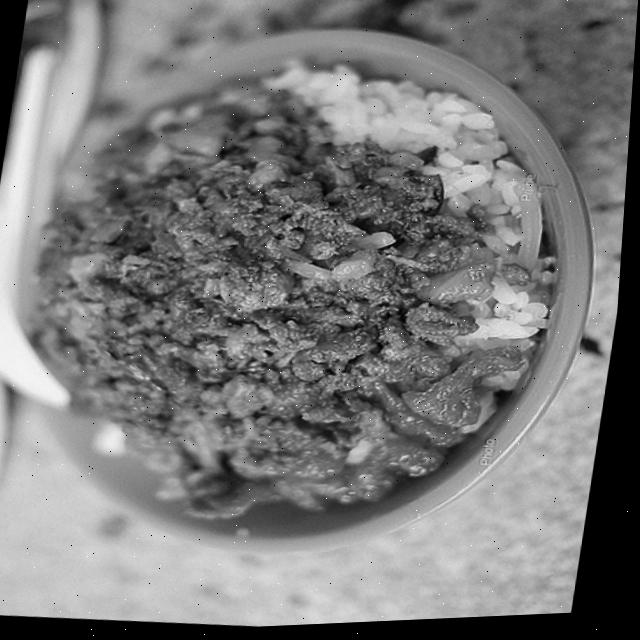猪肉菜式: (0, 0, 637, 594)
